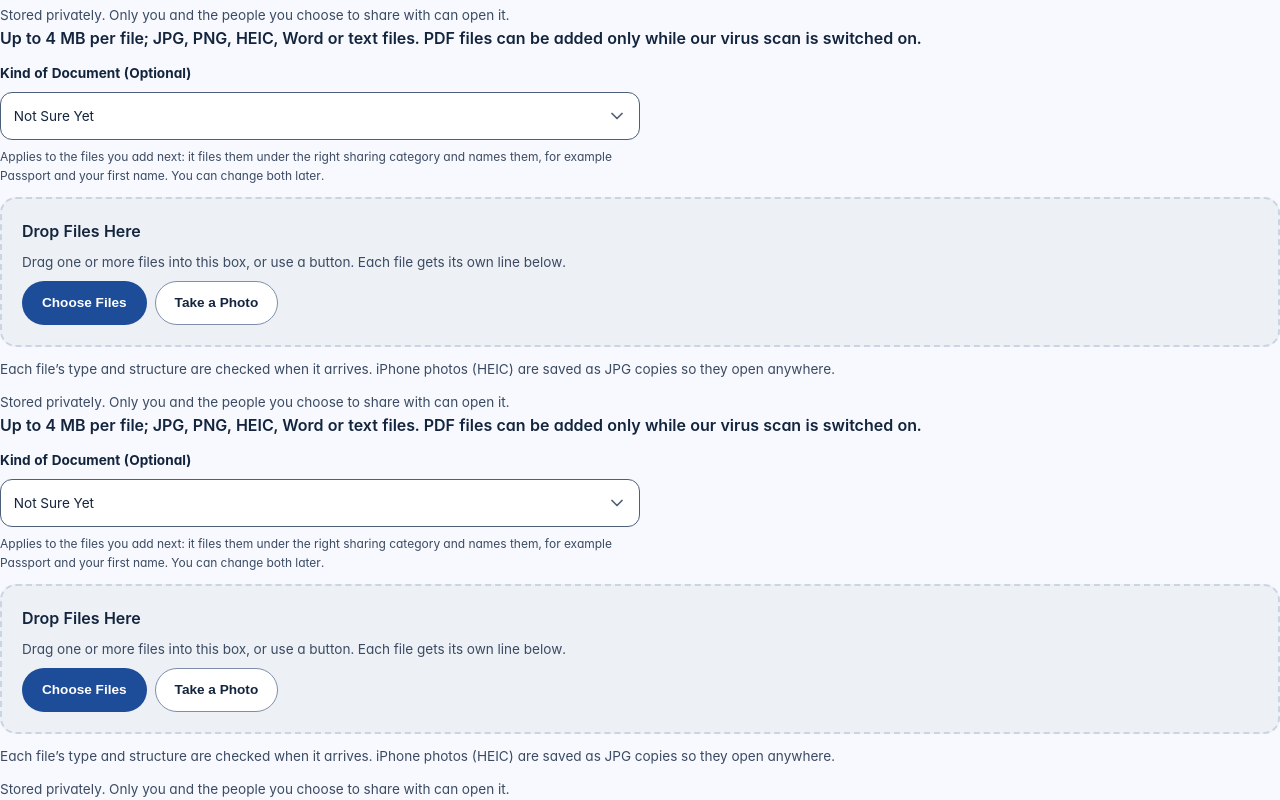
choosing the kind of document on the upload form › asks what an Other kind is only when Other is chosen
This screenshot has width=1280, height=800.
(page scrolled)
Select "Other Document" in the dropdown named "docType" at (320, 503), box [0,479,640,527]
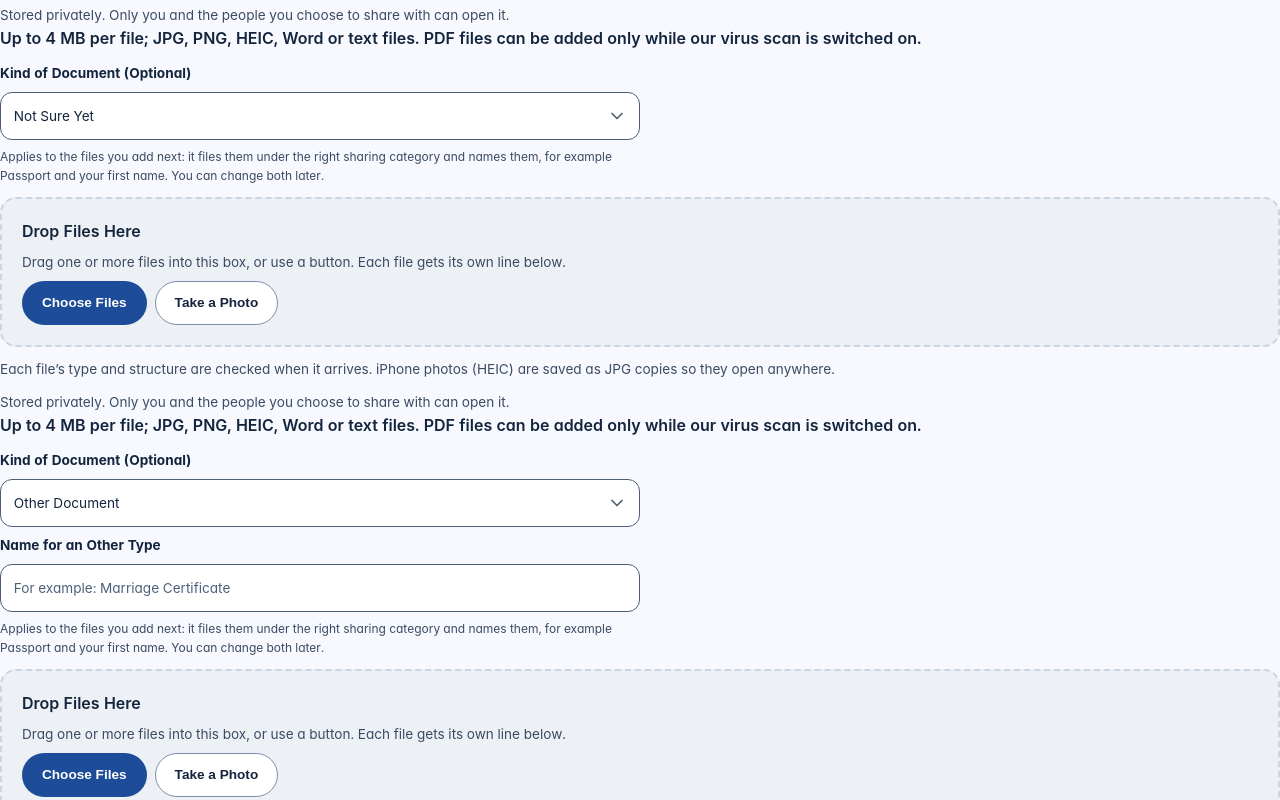
Check: the field named "subject" is shown, box [0,564,640,612]
Select "Passport" in the dropdown named "docType" at (320, 503), box [0,479,640,527]
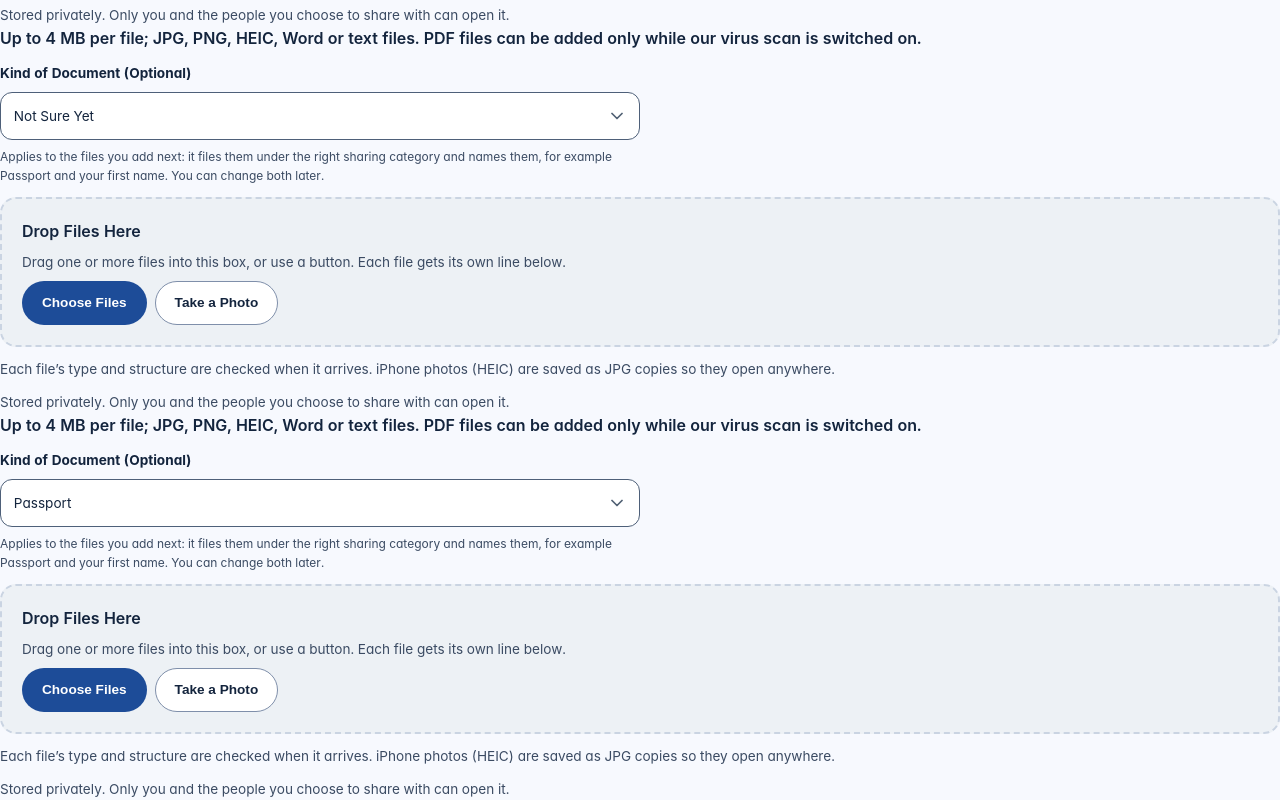
Check: the field named "subject" is gone
